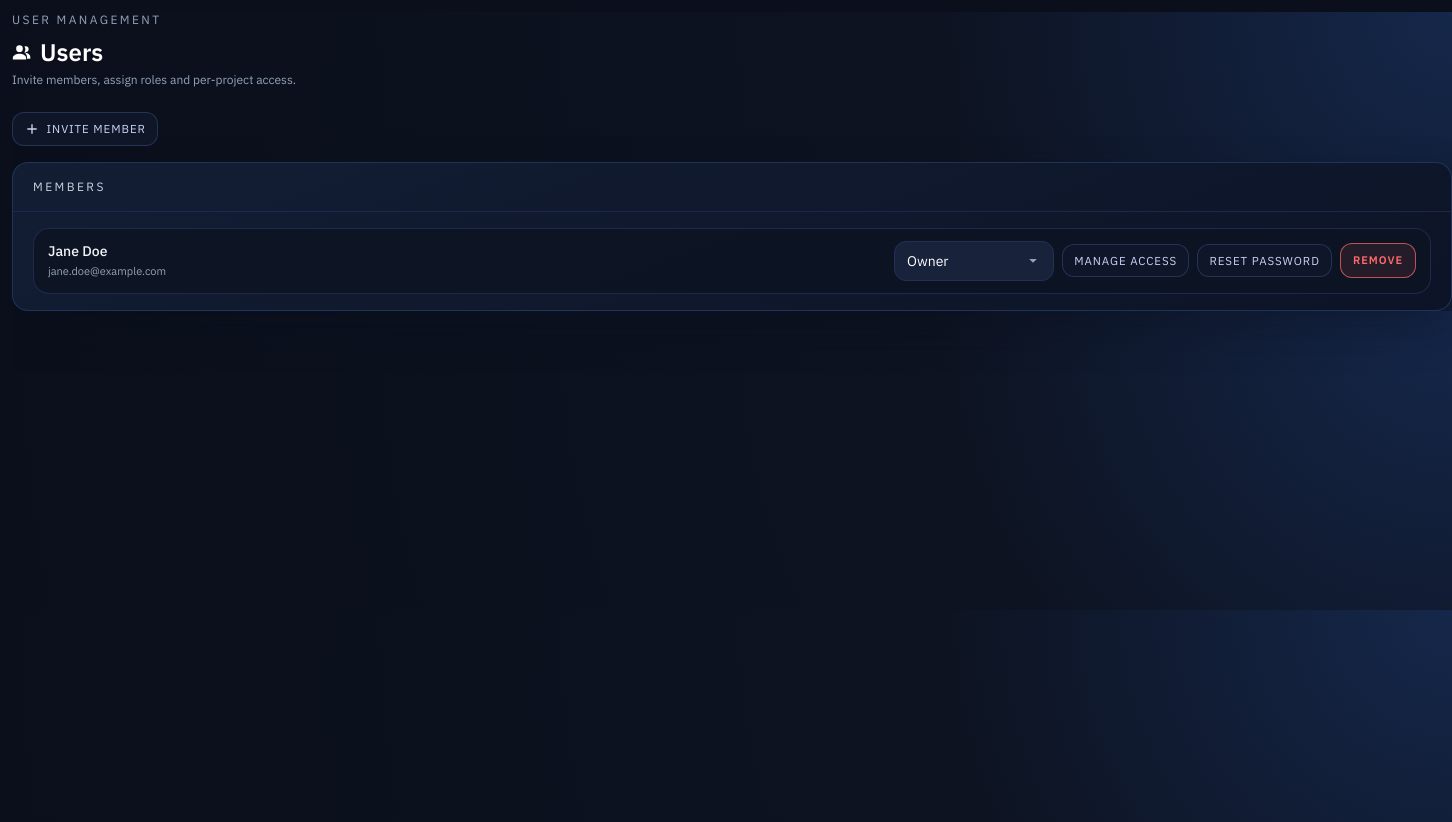
Test: UsersPage — Access drawer offers an explicit reset for restricted members › does not show 'Reset to full access' for a full member
The width and height of the screenshot is (1452, 822).
What coordinates should you click on to do the following:
click the button "Manage access"
I would click on:
 (1126, 261)
Its box is [1062,244,1189,277].
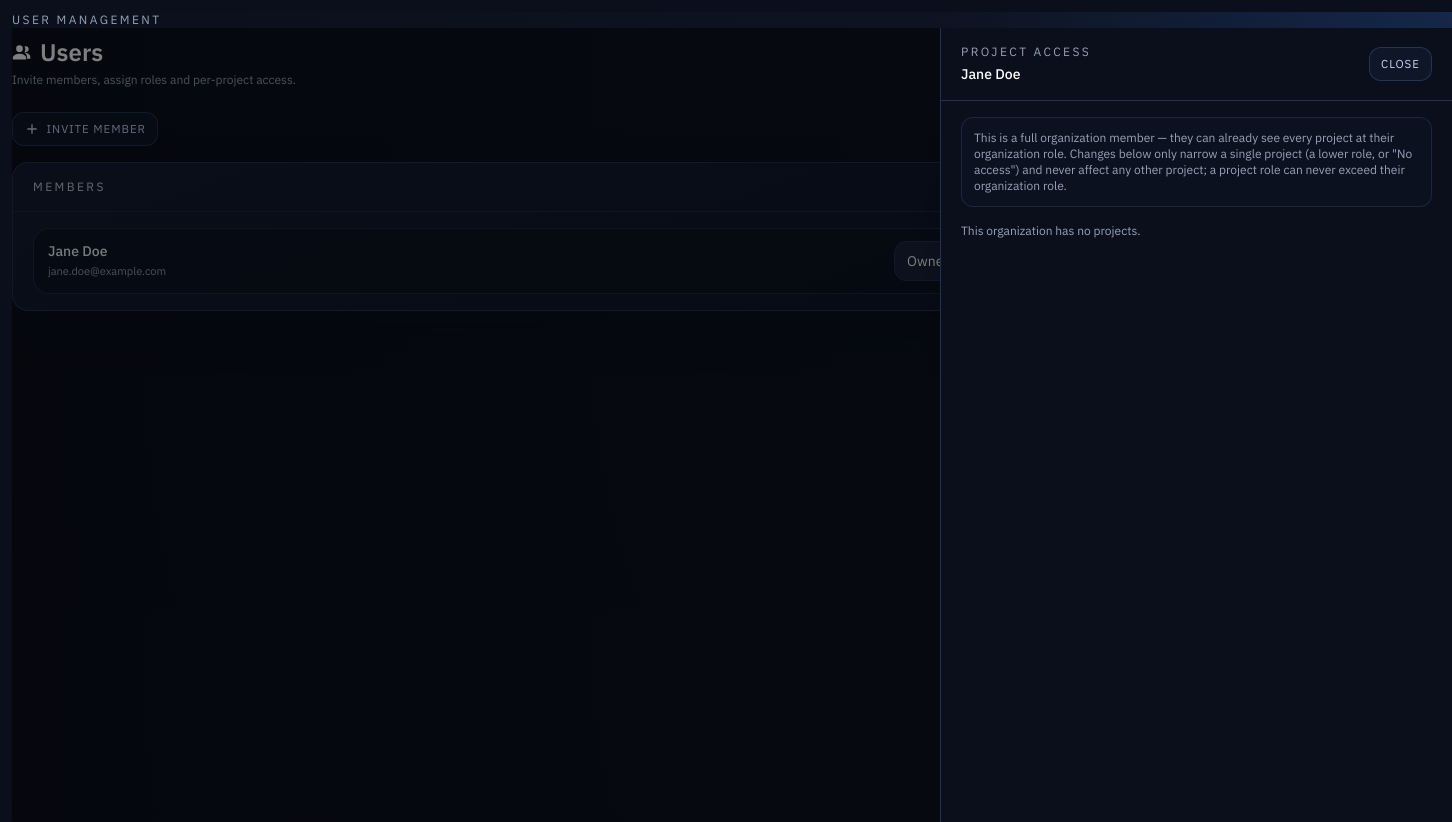
Now the text "already see every project" is shown, box [974,130,1412,193]
